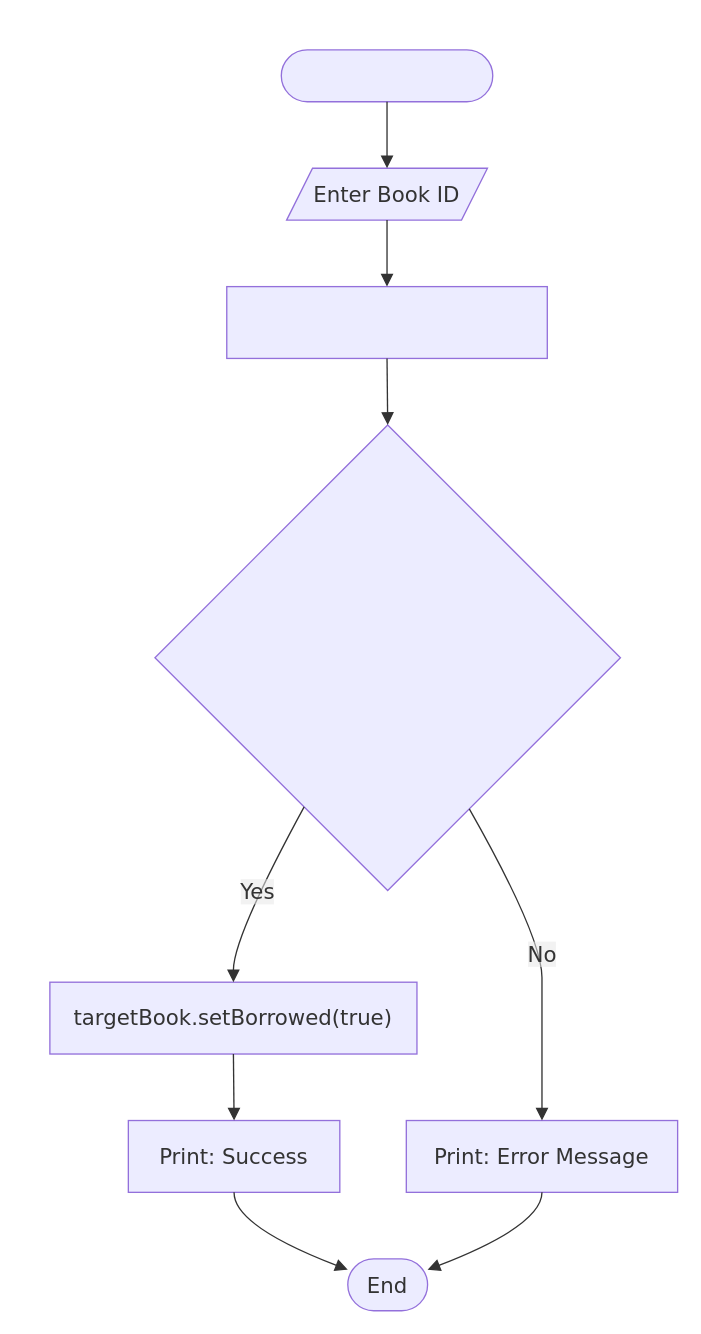
This 701x1334 diagram has some shape labels left out. Each missing label, with the centre of its shape:
Start: Borrow Book: point (386, 75)
targetBook = findById(ID): point (386, 321)
targetBook.isPresent() && !targetBook.isBorrowed(): point (387, 657)
